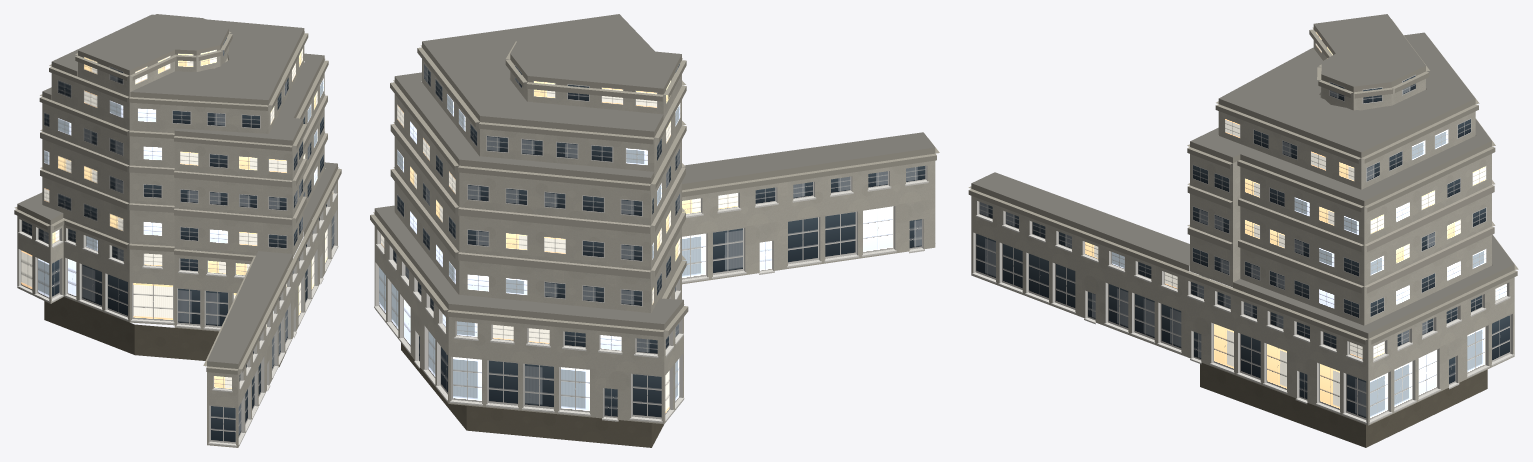
File: z3c_al_apo.glb
3 renders of one model, left to right at view 1: azimuth 30°, elevation 25°; view 2: azimuth 150°, elevation 25°; view 3: azimuth 270°, elevation 25°, orthographic. The views are drawn at different scales.
Parts seen in each view (by area): view 1: z3c_al_apo; view 2: z3c_al_apo; view 3: z3c_al_apo.
Boxes of the visible parts, x1=… form: z3c_al_apo: x1=14, y1=14, x2=341, y2=447; z3c_al_apo: x1=370, y1=14, x2=939, y2=447; z3c_al_apo: x1=968, y1=14, x2=1518, y2=447.
Bounding box in the file's own units: 31.36 × 27.7 × 44.48.
Materials: 3 (3 with a texture image).
